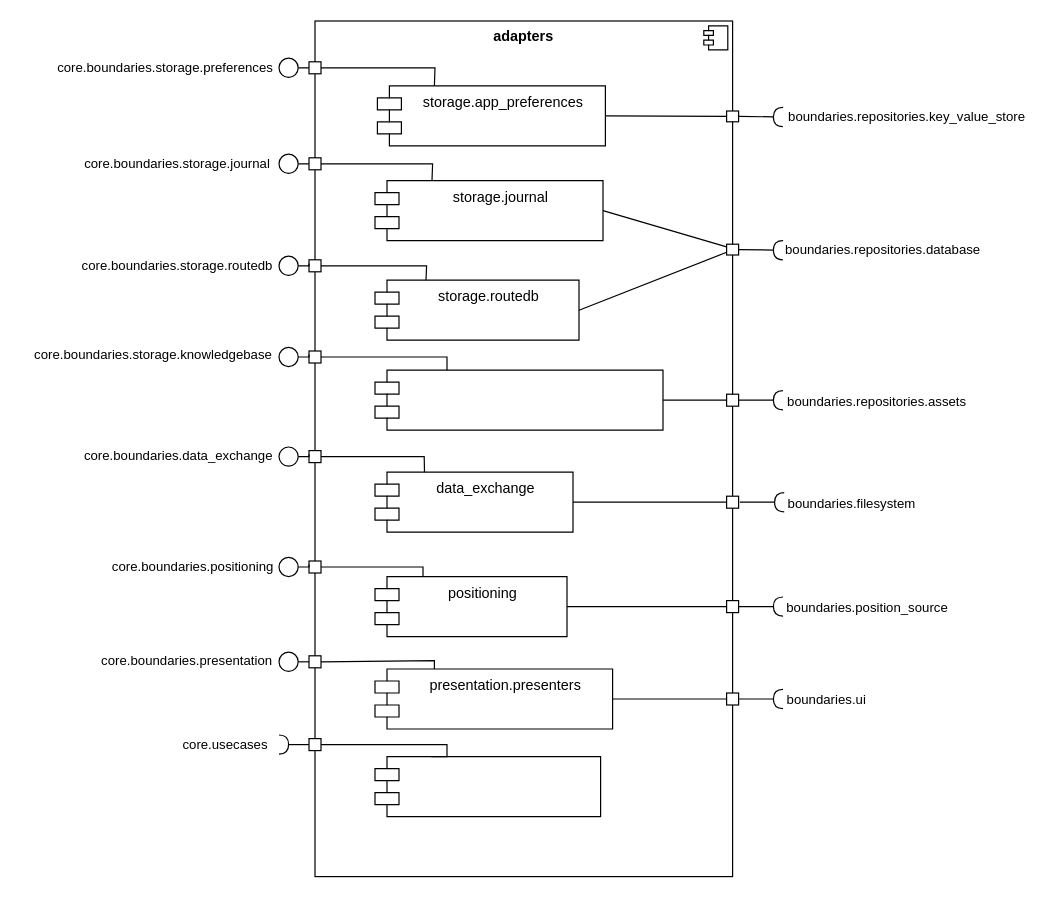
Image size: 1045x898. Some labels were removed from this diagram. The shapes that lost their labels are listed below. From the top down, each one's centre as x and y in pixels, then its label:
At (518,399): "storage.knowledgebase".
At (487,786): "presentation.controllers".
